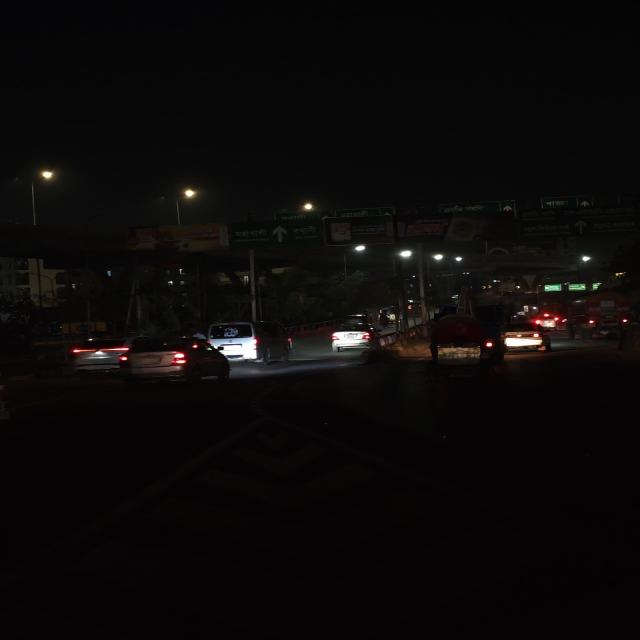car: (118, 334, 221, 384), (206, 319, 296, 364), (498, 319, 552, 353), (327, 322, 382, 354), (65, 336, 125, 364)
rickshaw: (422, 315, 498, 369)
truck: (567, 293, 634, 338)
